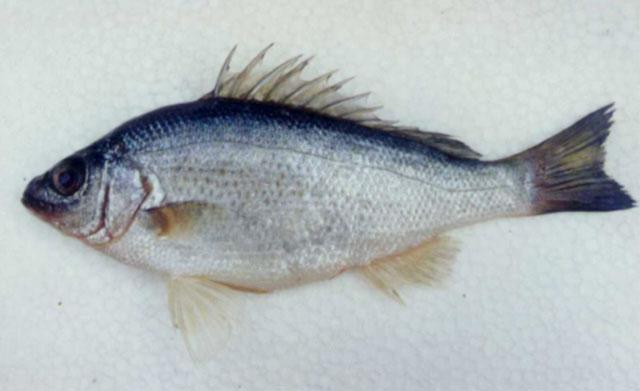Silver Perch: (25, 39, 638, 354)
